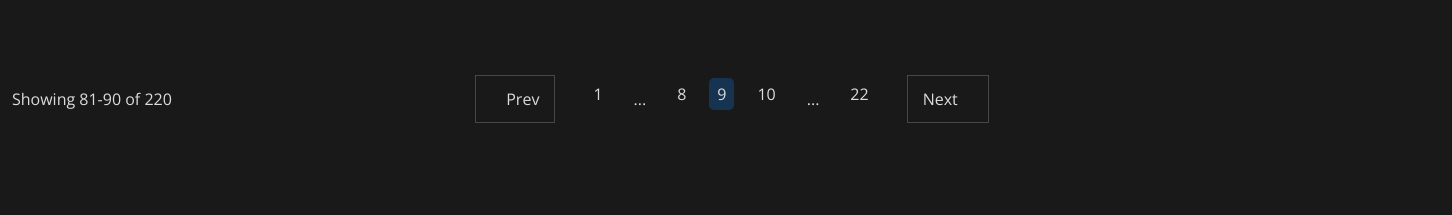
Test: jumping to a page from an ellipsis › puts the ellipsis back when focus leaves
Click the button named "Jump to page" at [640, 99], box x1=626 y1=83 x2=654 y2=115
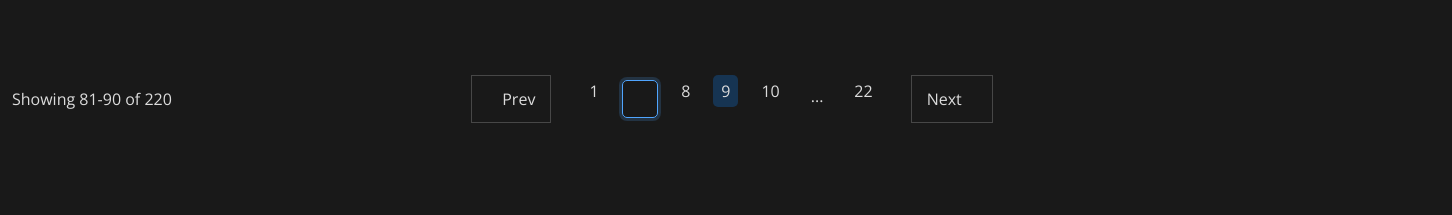
Type "15" into the field named "Go to page (1-22)" at [640, 99], box x1=622 y1=80 x2=658 y2=118
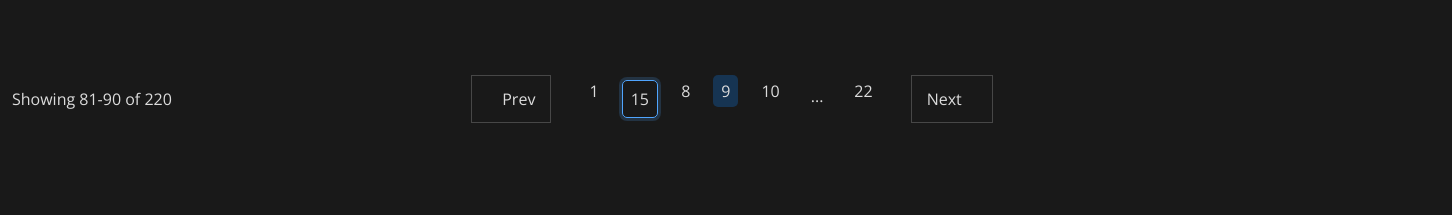
Click the element showing "Showing 81-90 of 220 Prev 1 8 9 10 ... 22 Next" at [732, 99], box x1=12 y1=0 x2=1451 y2=198
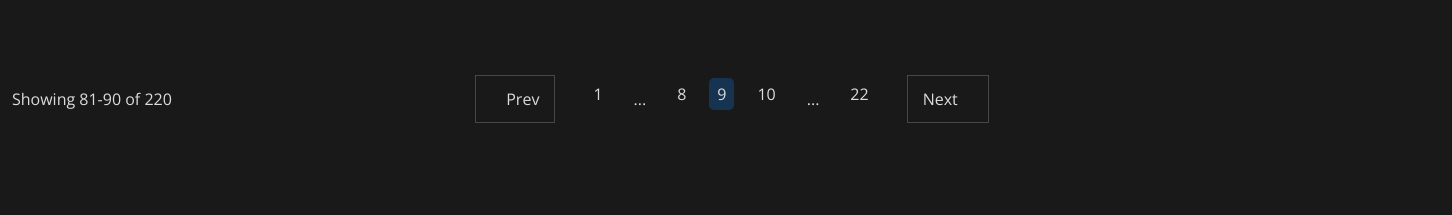
Expected: the field is gone
